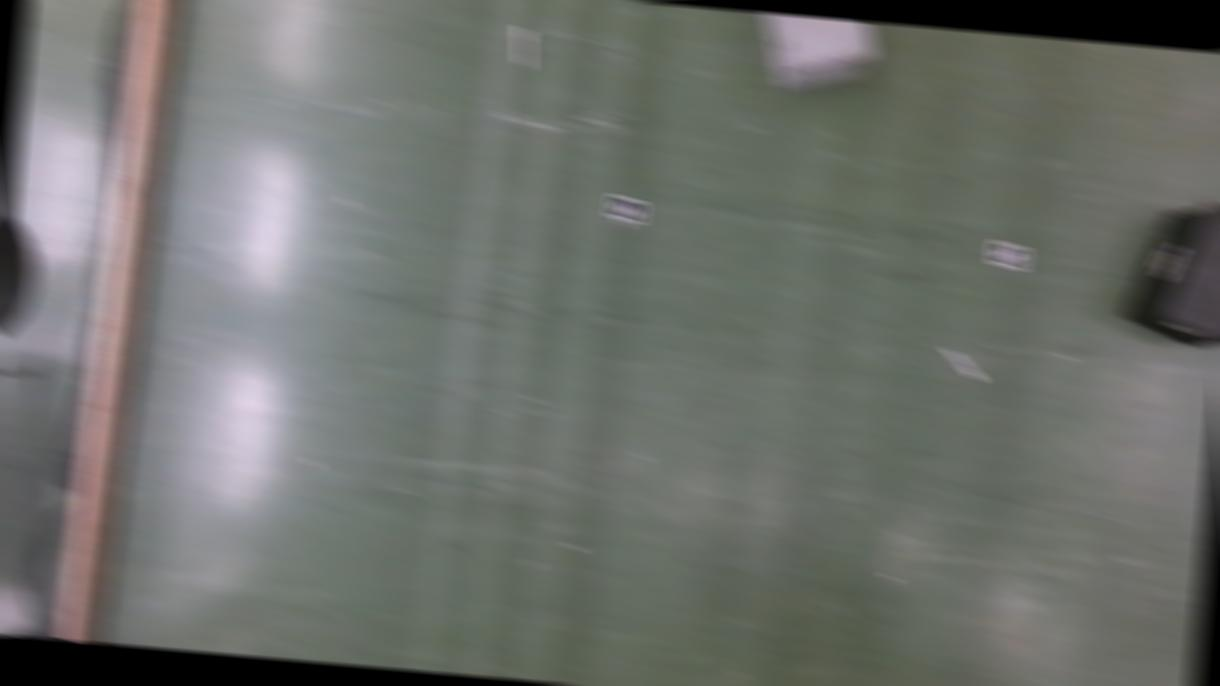probes: (942, 348, 982, 381), (512, 27, 532, 69)
rako: (1119, 197, 1220, 351), (755, 11, 879, 100)
